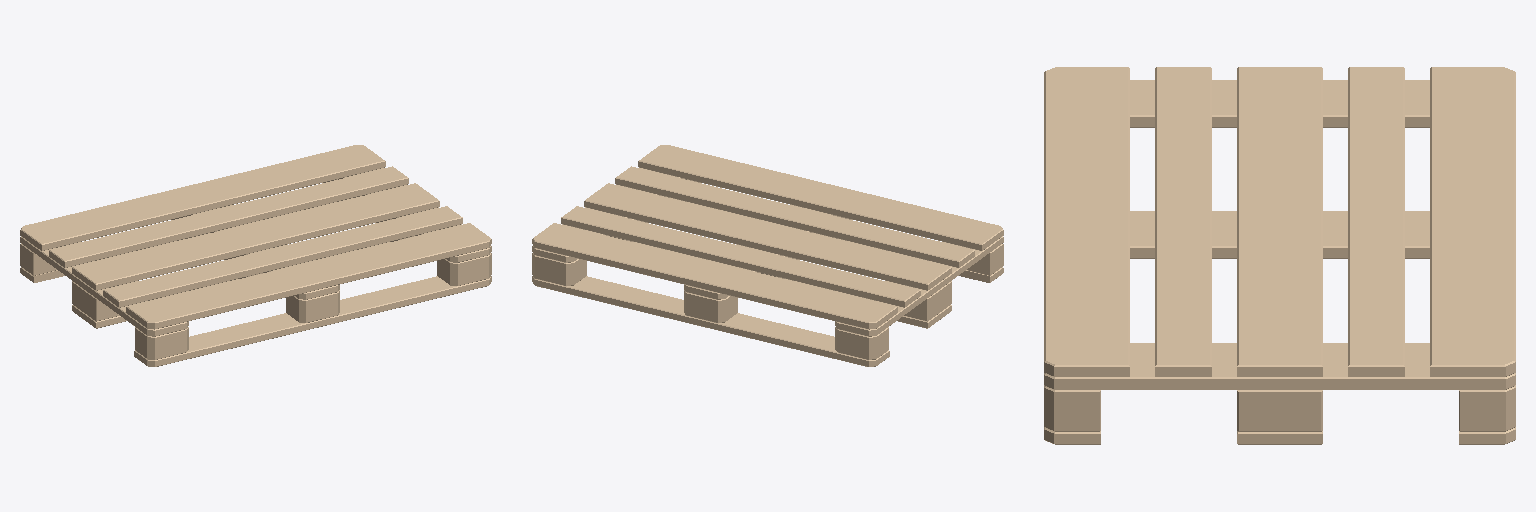
robot.urdf — europalette:
<?xml version="1.0" encoding="utf-8"?>
<!-- This URDF was automatically created by SolidWorks to URDF Exporter! Originally created by [author] ([email redacted]) 
     Commit Version: 1.6.0-4-g7f85cfe  Build Version: 1.6.7995.38578
     For more information, please see http://wiki.ros.org/sw_urdf_exporter -->


<robot name="europalette">

  <link name="base_link">
    <inertial>
      <origin xyz="0 0 0" rpy="0 0 0" />
      <mass value="45.11865" />
      <inertia ixx="3.1330716772058" ixy="-3.52248840062748E-17" ixz="9.836549879291E-19" iyy="0.462522380993745" iyz="6.13082306634959E-18" izz="3.58108726709954" />
    </inertial>
    <visual>
      <origin xyz="0 0 0" rpy="0 0 0" />
      <geometry>
        <mesh filename="package://environment/meshes/Europoolpalette_scaled.stl" />
      </geometry>
      <material name="">
        <color rgba="0.894117647058823 0.803921568627451 0.690196078431373 1" />
      </material>
    </visual>
    <collision>
      <origin xyz="0 0 0" rpy="0 0 0" />
      <geometry>
        <mesh filename="package://environment/meshes/Europoolpalette_scaled.stl" />
      </geometry>
    </collision>
  </link>

  <!-- Namespace für Gazebo-Plugins -->
  <gazebo>
    <plugin name="gazebo_ros_control" filename="libgazebo_ros_control.so">
      <robotNamespace>/europalette</robotNamespace> 
    </plugin>

    <plugin name="gazebo_ros_p3d" filename="libgazebo_ros_p3d.so">
      <robotNamespace>/europalette</robotNamespace>
      <bodyName>base_link</bodyName>
      <frameName>world</frameName>
      <updateRate>50.0</updateRate>
      <topicName>/europalette/tf</topicName> 
    </plugin>
  </gazebo>

</robot>


--- What the picture shows (computed from the rendered views, not written in the file) ---
The picture shows the robot from 3 angles, left to right: view 1: azimuth 30°, elevation 25°; view 2: azimuth 150°, elevation 25°; view 3: azimuth 270°, elevation 25°; orthographic projection.
Model europalette with 1 links and 0 joints (none), rooted at base_link, posed all joints at 0.
Visible links, largest first — view 1: base_link; view 2: base_link; view 3: base_link.
Boxes of the visible links, left/top/right/bottom form: base_link: left=20, top=145, right=491, bottom=366; base_link: left=532, top=145, right=1003, bottom=366; base_link: left=1044, top=67, right=1515, bottom=444.
Size in the robot's own frame: 0.5 by 0.3333 by 0.0625 metres.
Meshes: 1 distinct files referenced, 1 mesh visuals loaded (1 binary STL).